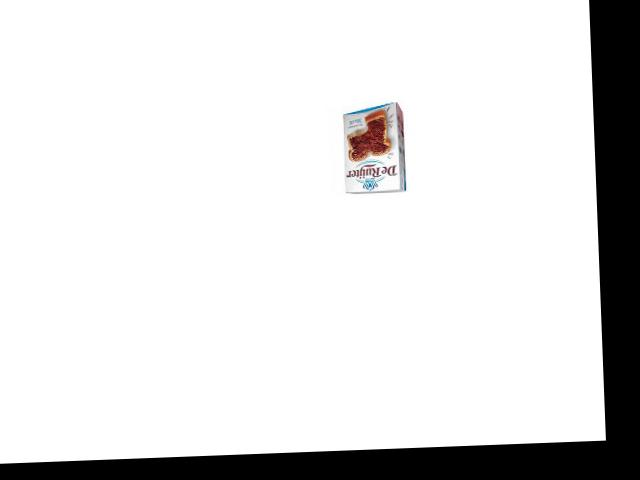chocolate: (334, 103, 414, 199)
